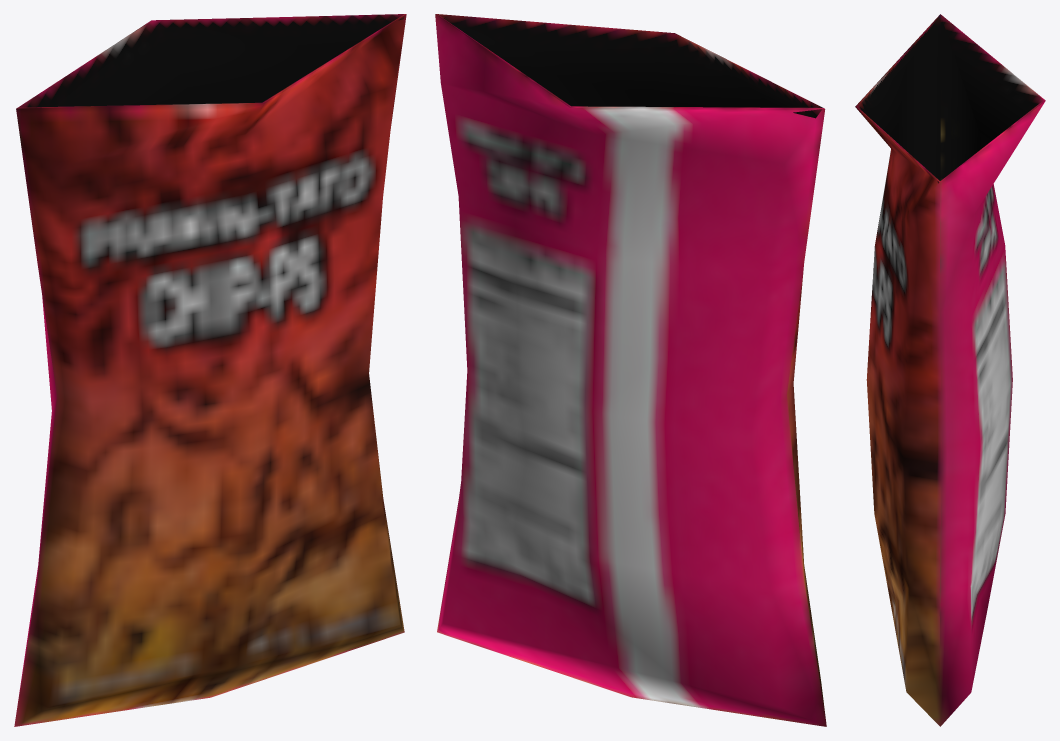
Rendered from esya_cips_medium_open_b.glb.
3 renders of one model, left to right at view 1: azimuth 30°, elevation 25°; view 2: azimuth 150°, elevation 25°; view 3: azimuth 270°, elevation 25°, orthographic. The views are drawn at different scales.
Parts seen in each view (by area): view 1: Medium_Open_B; view 2: Medium_Open_B; view 3: Medium_Open_B.
Part boxes in pixels (x1,y1,x2,y2): Medium_Open_B: [14, 14, 406, 726]; Medium_Open_B: [435, 14, 826, 726]; Medium_Open_B: [855, 14, 1045, 726].
Size of the model in its own units: 1.98 by 3.07 by 0.946.
1 material, 1 textured.
